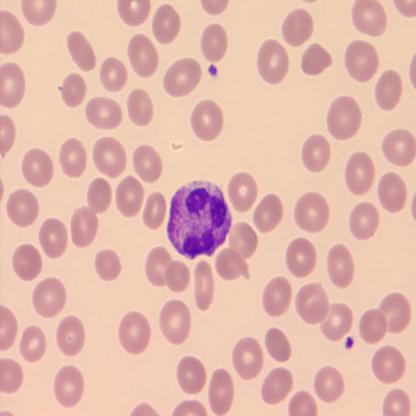Segmented neutrophil: (164, 176, 234, 260)
